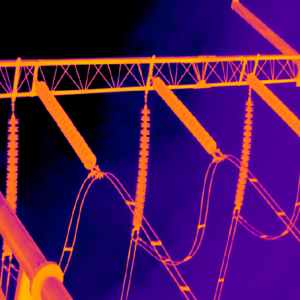insulator: (33, 79, 97, 171), (150, 71, 217, 155), (244, 68, 300, 138), (129, 106, 150, 231), (232, 98, 254, 210), (2, 112, 18, 216)
